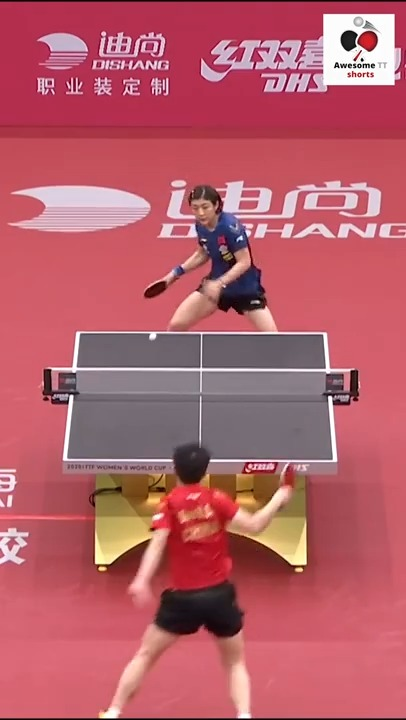Ball: (146, 331, 159, 342)
